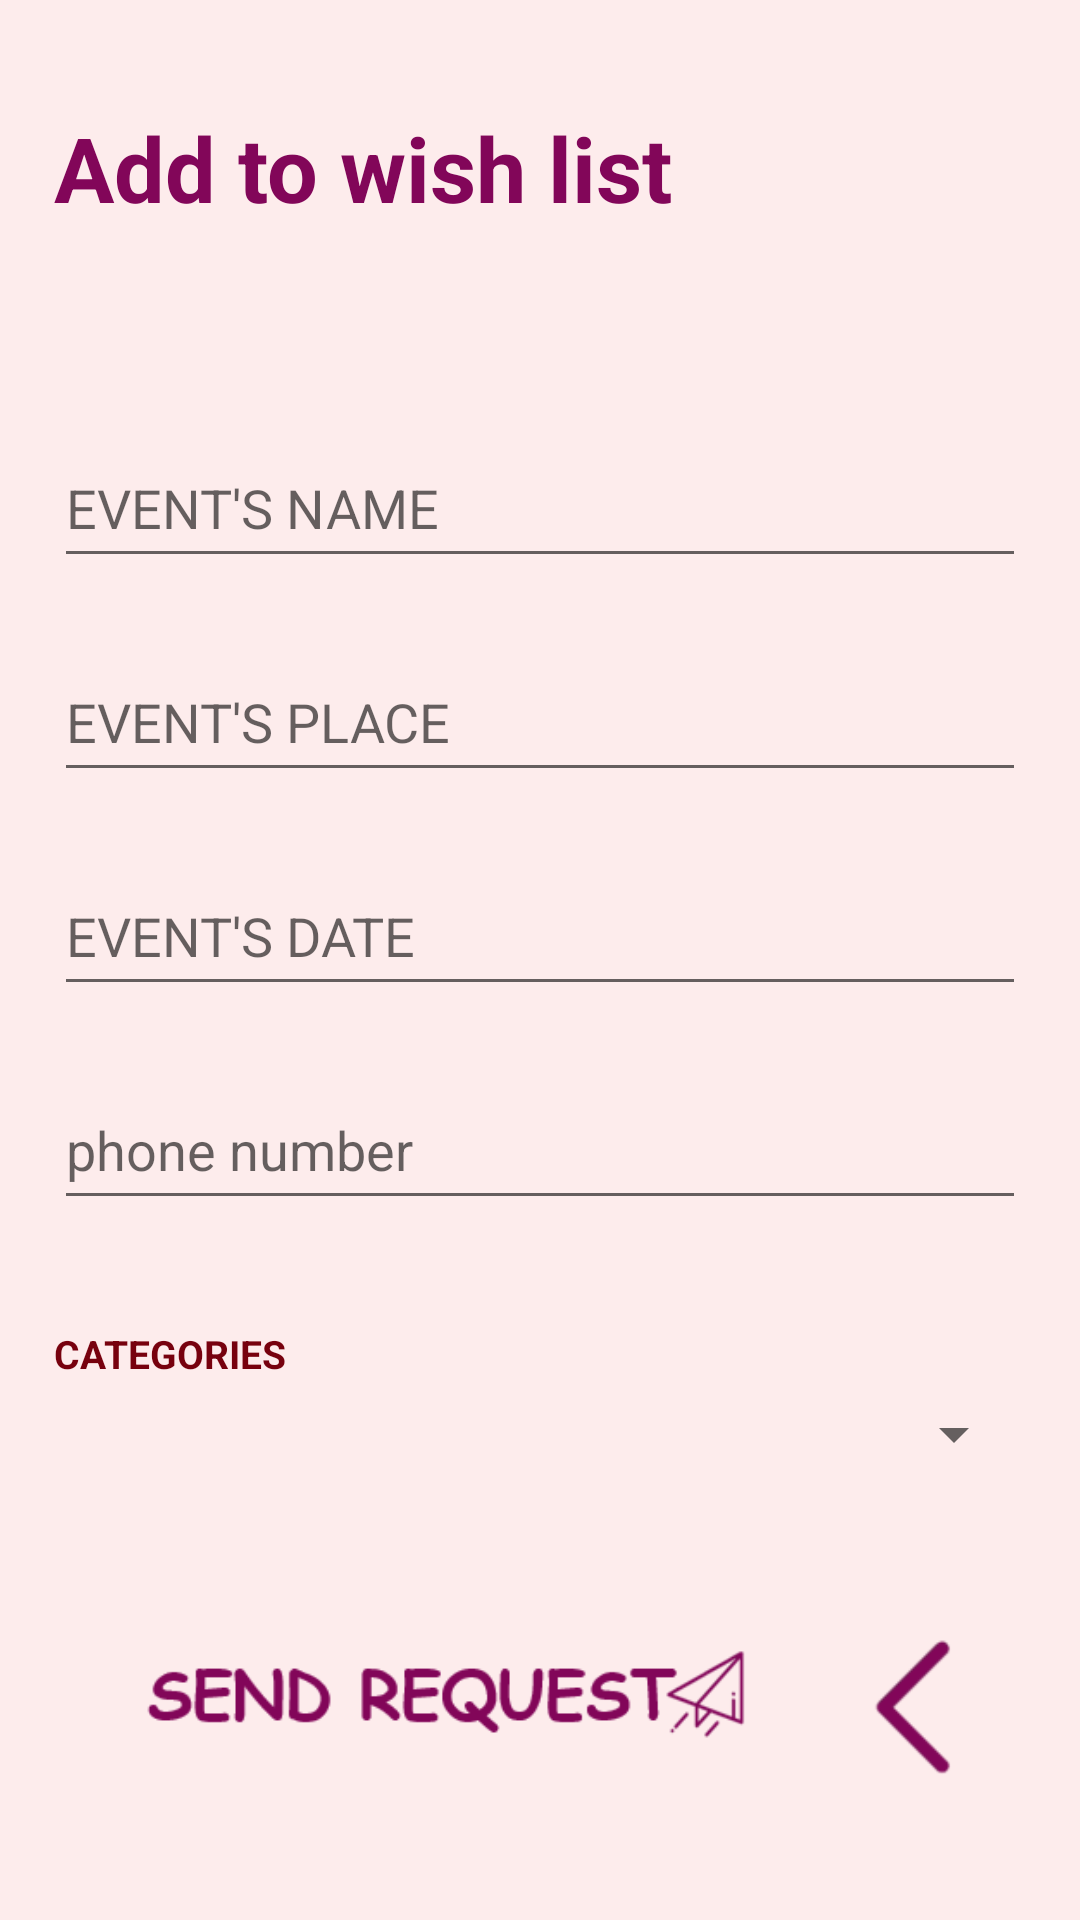

Icon click points for this 1080*1920 phone screenshot, format point (x, y):
back: point (912, 1707)
